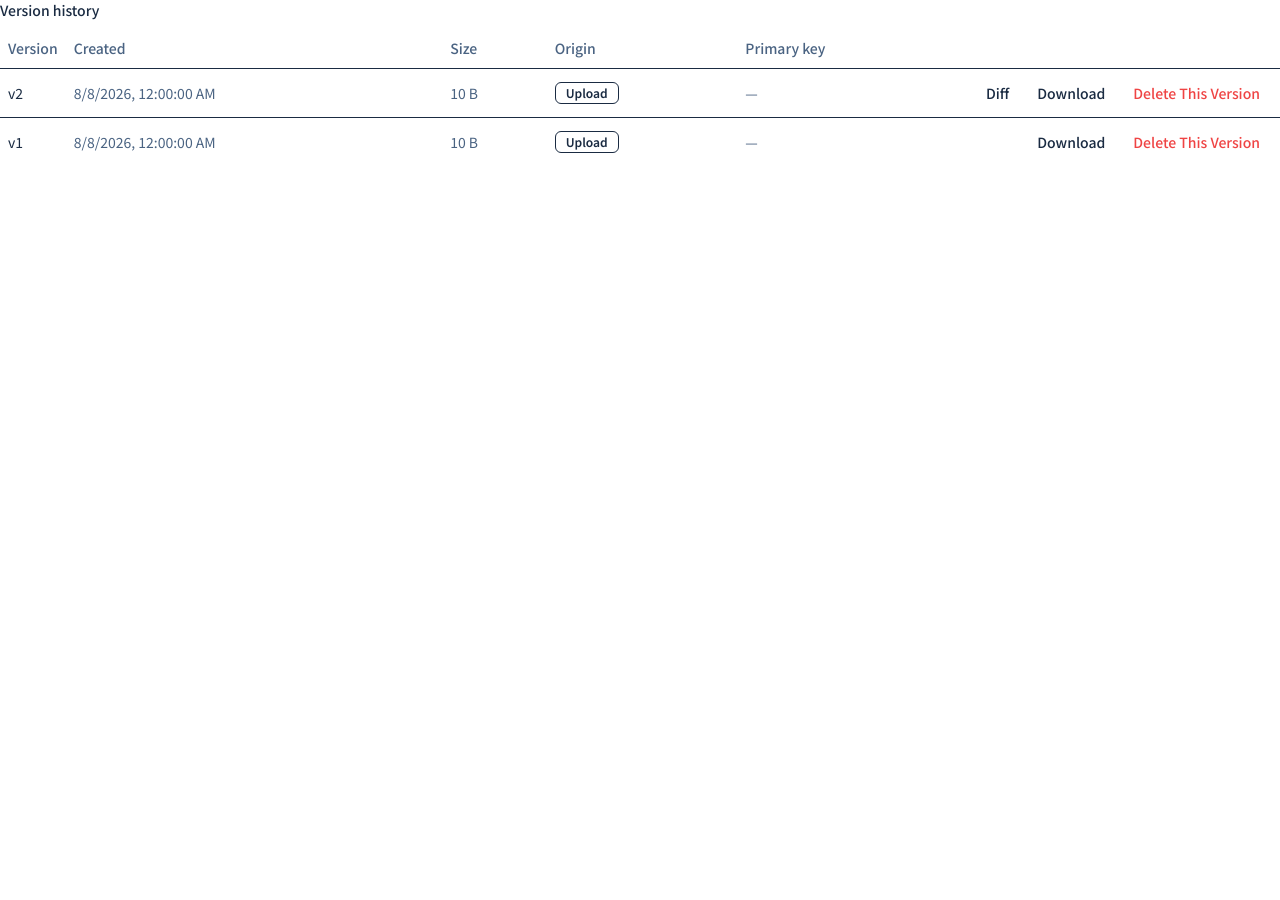
Scenario: ResourceVersionHistory › the purge confirmation names what will happen (spec §9.6) › says nothing derived changes when the version is not the one being served
Click the 1st button "Delete This Version" at (1197,92), box x1=1121 y1=76 x2=1272 y2=108
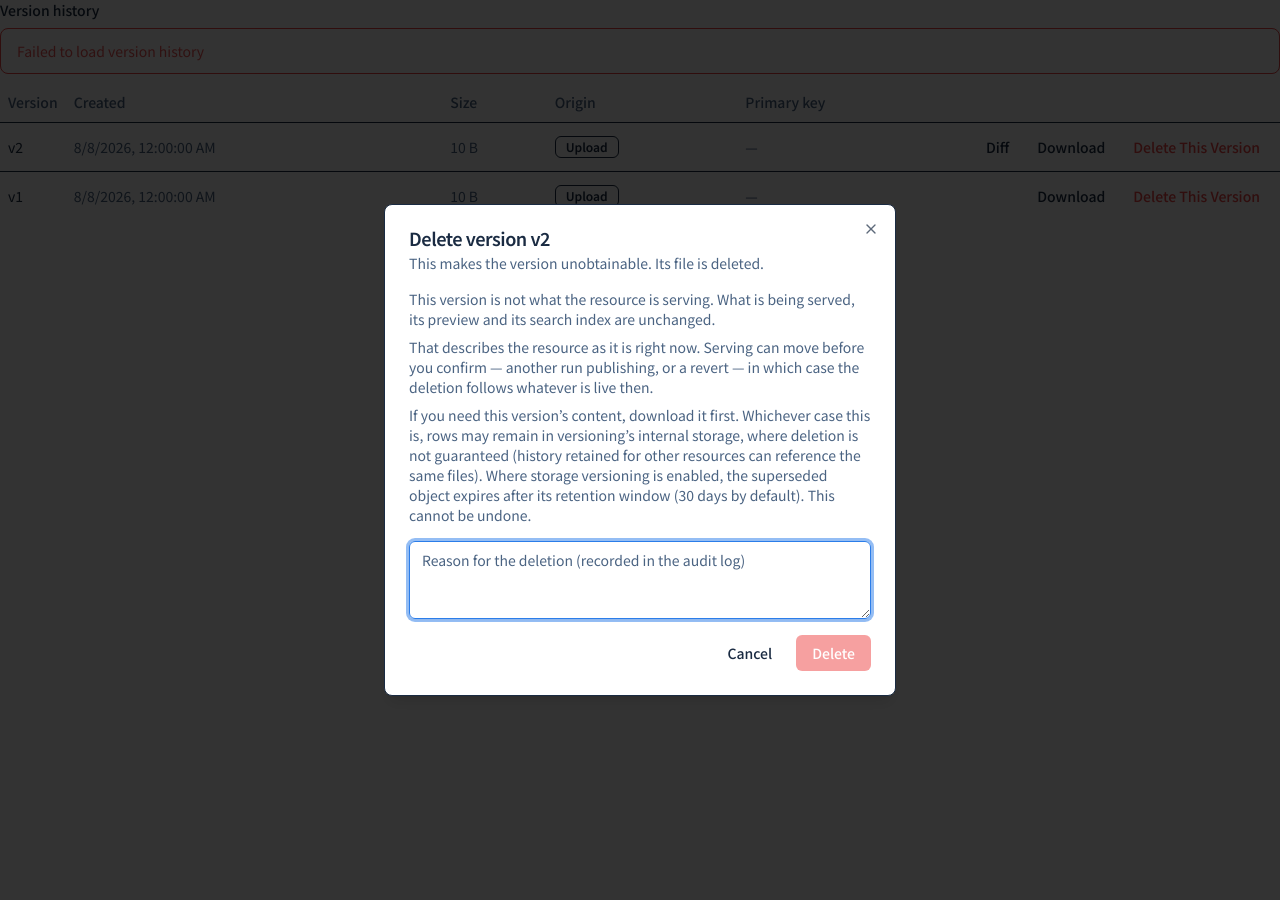
Expected: the dialog does not show "serving falls back to", x1=384 y1=204 x2=896 y2=696
Expected: the dialog shows "What is being served, its preview and its search index", x1=409 y1=289 x2=855 y2=329
